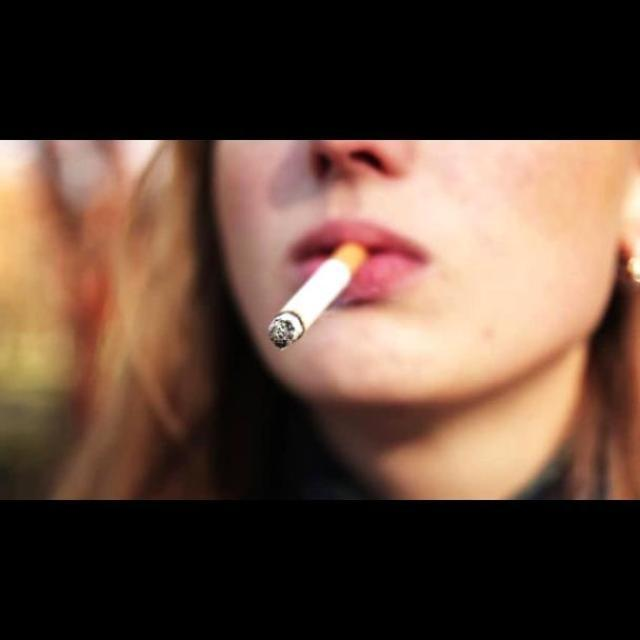rokok: (260, 233, 372, 364)
